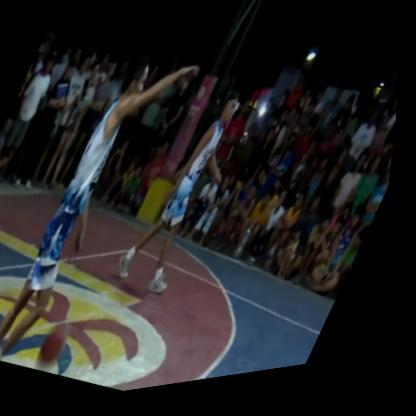basketball: (40, 319, 82, 374)
